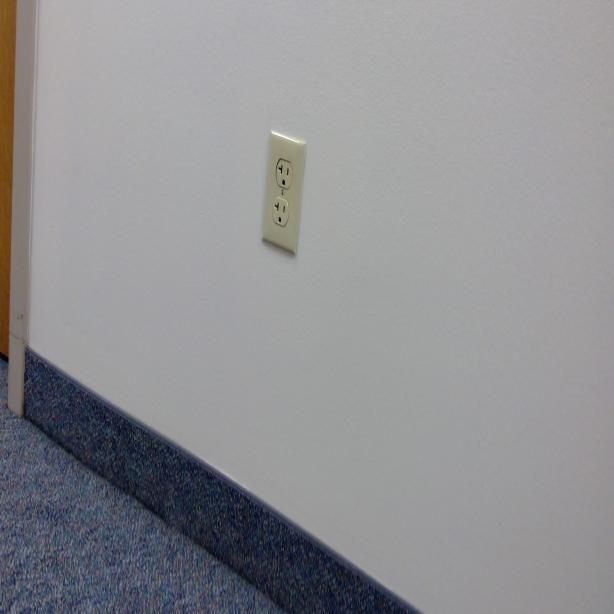typeb: (275, 158, 291, 190), (272, 197, 288, 229)
